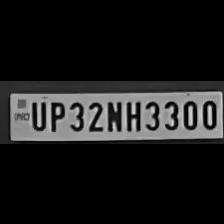0: (180, 96, 198, 130), (200, 96, 218, 128)
2: (86, 97, 104, 131)
3: (66, 97, 84, 131), (142, 97, 160, 130), (162, 96, 178, 130)
H: (123, 97, 141, 131)
N: (104, 97, 122, 131)
P: (46, 97, 66, 131)
U: (27, 98, 45, 130)
